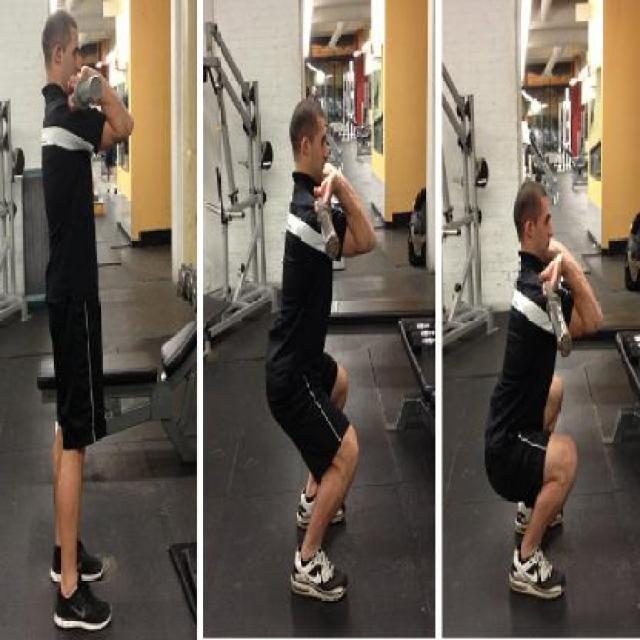Barbell: (538, 283, 580, 369), (310, 198, 347, 267), (70, 66, 107, 114)
